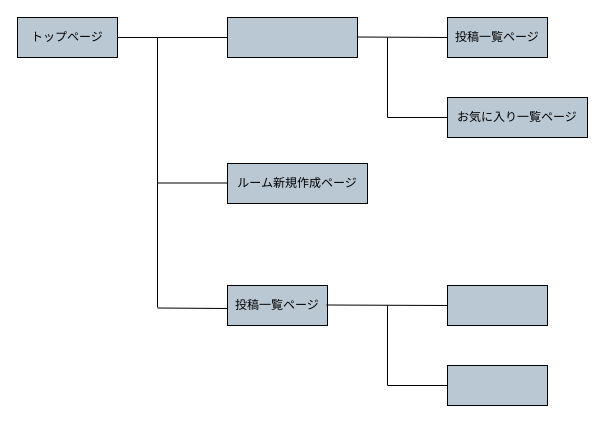
Some shapes in this 605 by 423 pixel diagram are drawn without their labels. The shapes that lost their labels are listed below. From the top down, each one's box as (x1, y1, x2, y2) in pixels, then its label:
(226, 16, 358, 58): ユーザーマイページ
(446, 284, 548, 326): 詳細ページ
(446, 364, 548, 406): 投稿ページ
